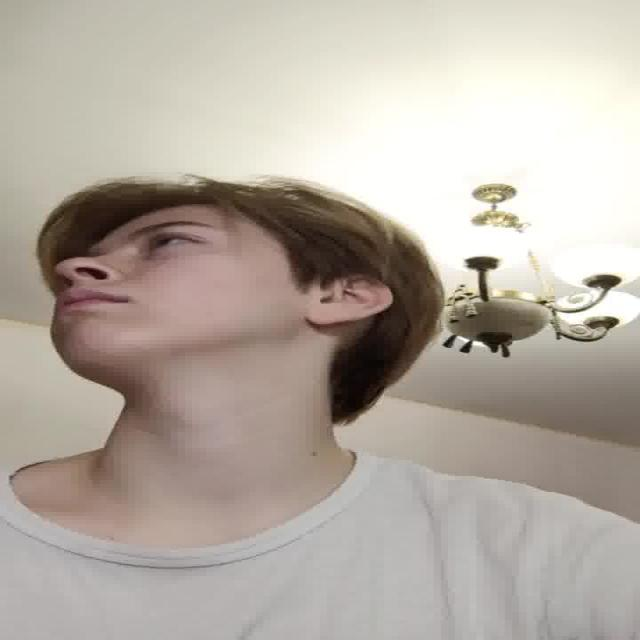earlobe: (306, 303, 344, 326)
eye: (146, 233, 205, 250)
nose: (54, 274, 117, 294)
wholeear: (306, 273, 392, 325)
